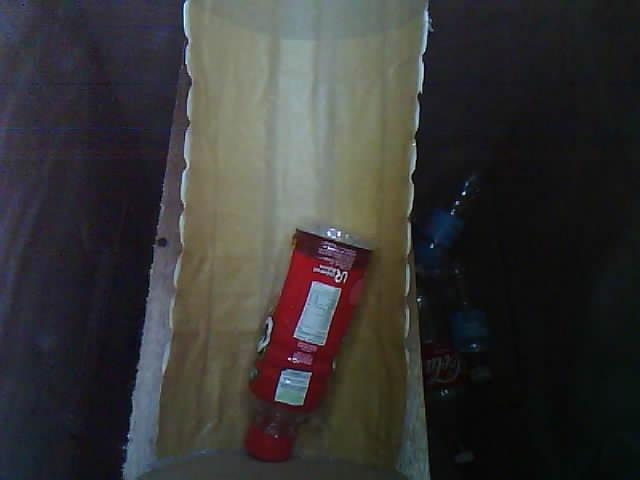small_bottle: (220, 212, 391, 480)
